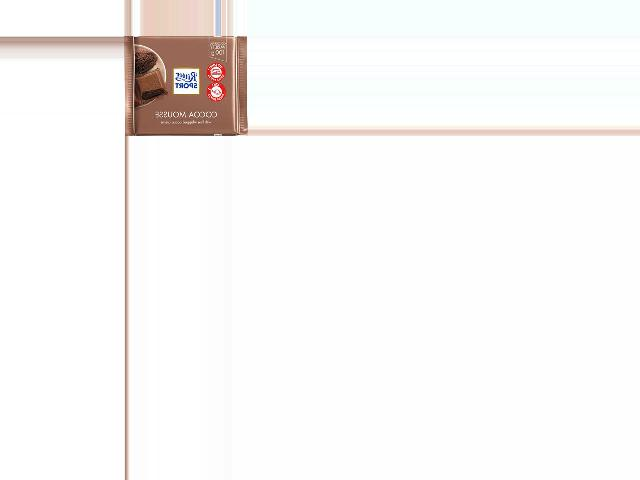chocolate: (124, 36, 245, 137)
